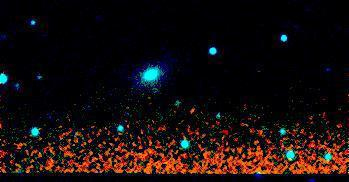star: (179, 96, 209, 126)
